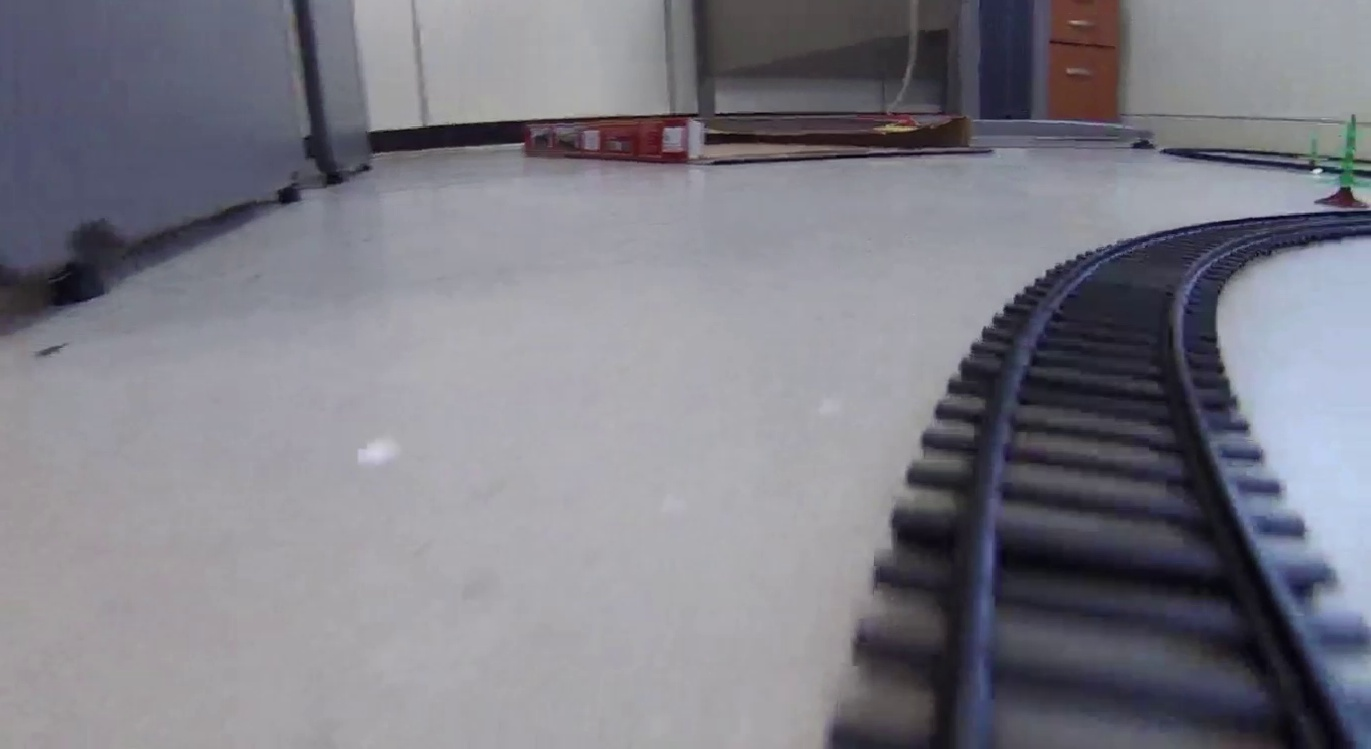tree: (1316, 115, 1371, 212)
